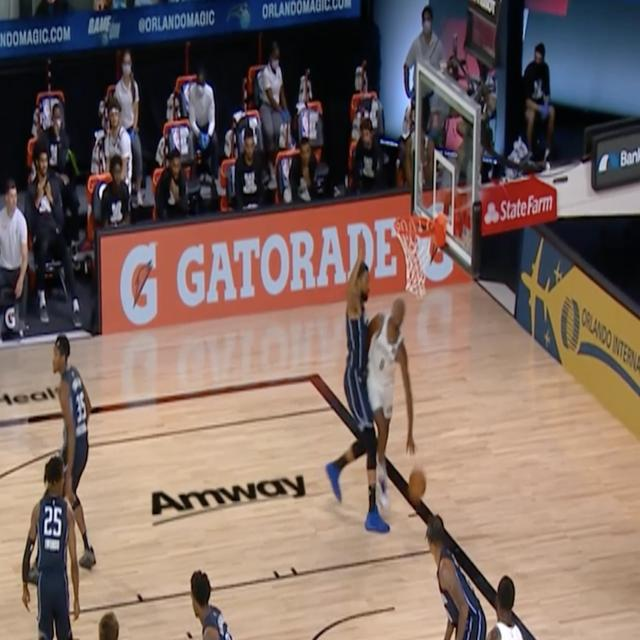Foul: (328, 250, 407, 536)
